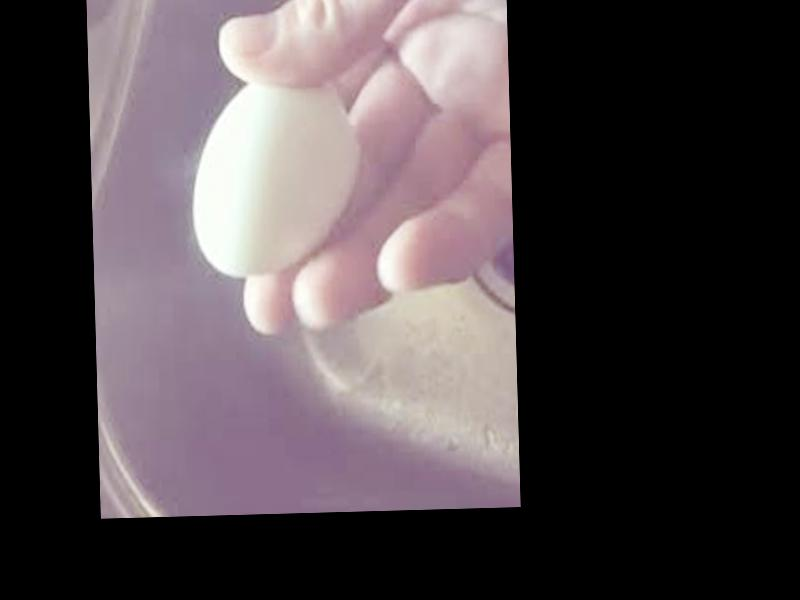Eggs: (189, 76, 357, 274)
